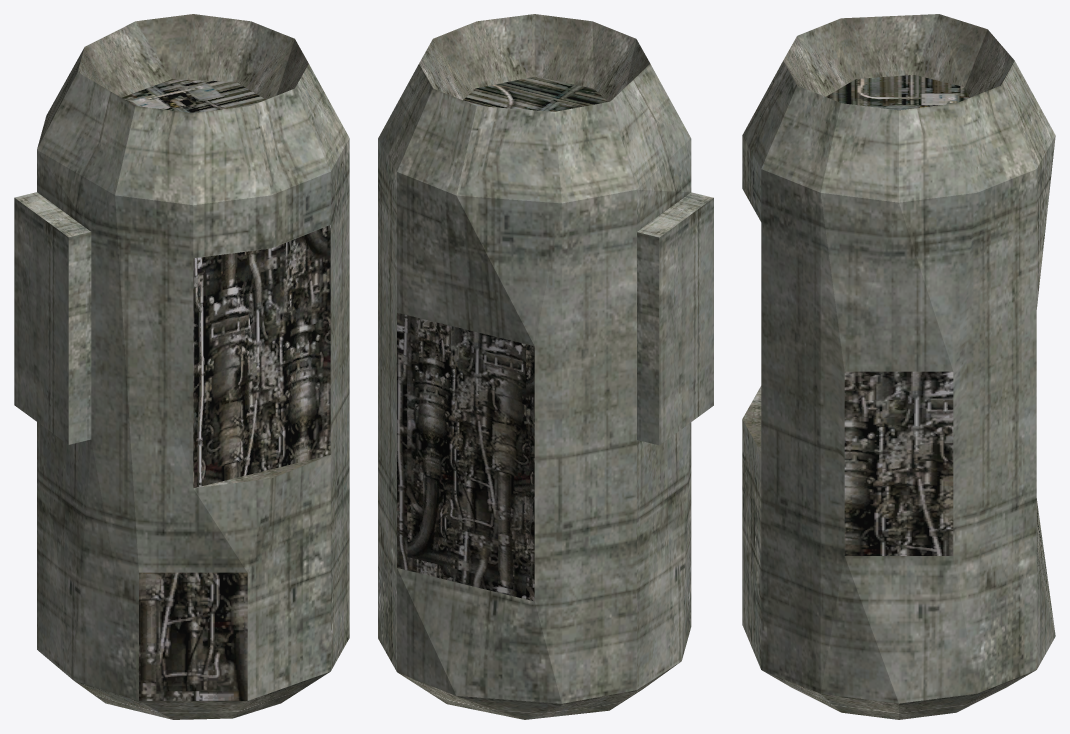
Rendered from thm_prp_junk_s6_l1.fbx.
The picture shows the model from 3 angles, left to right: view 1: azimuth 30°, elevation 25°; view 2: azimuth 150°, elevation 25°; view 3: azimuth 270°, elevation 25°; orthographic projection.
Visible parts, largest first — view 1: mesh_node; view 2: mesh_node; view 3: mesh_node.
Part boxes in pixels (x1,y1,x2,y2): mesh_node: [14, 14, 349, 719]; mesh_node: [378, 14, 713, 719]; mesh_node: [742, 14, 1055, 719].
Bounding box in the file's own units: 2.1 × 4.23 × 1.97.
